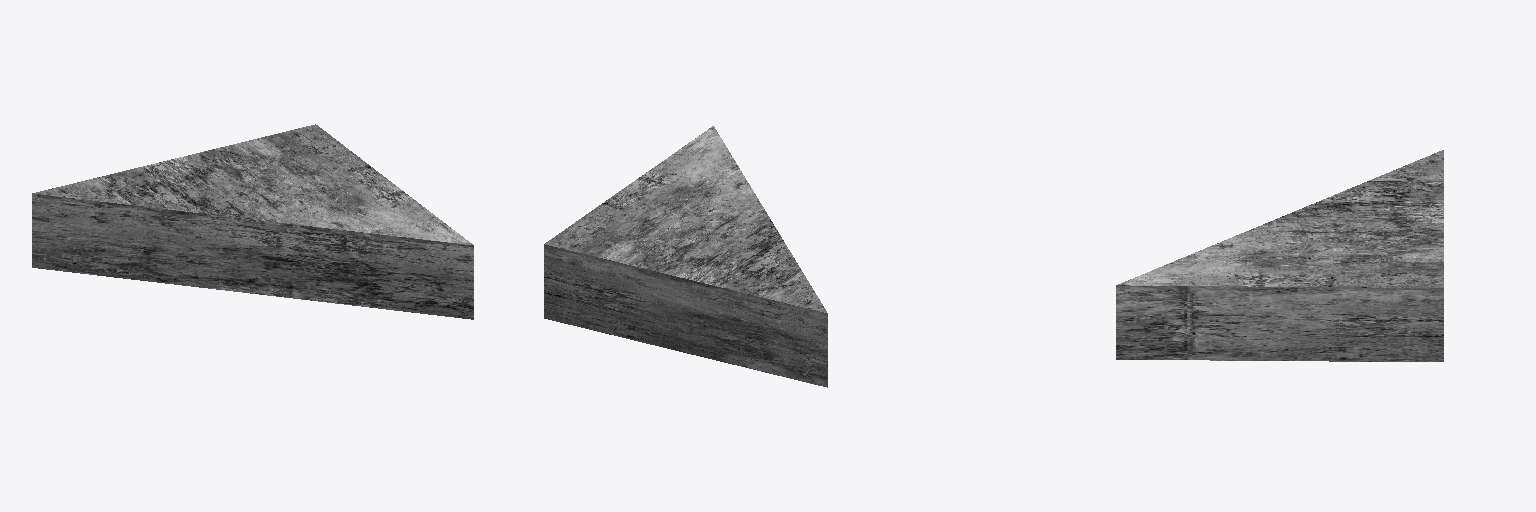
The picture shows the model from 3 angles: view 1: azimuth 30°, elevation 25°; view 2: azimuth 150°, elevation 25°; view 3: azimuth 270°, elevation 25°; orthographic projection.
Visible parts, largest first — view 1: Prism002; view 2: Prism002; view 3: Prism002.
Boxes of the visible parts, x1,y1,x2,y2 form: Prism002: [32, 124, 473, 319]; Prism002: [544, 126, 827, 387]; Prism002: [1116, 150, 1443, 361].
Size of the model in its own units: 20 by 5 by 20.
1 materials, 1 textured.